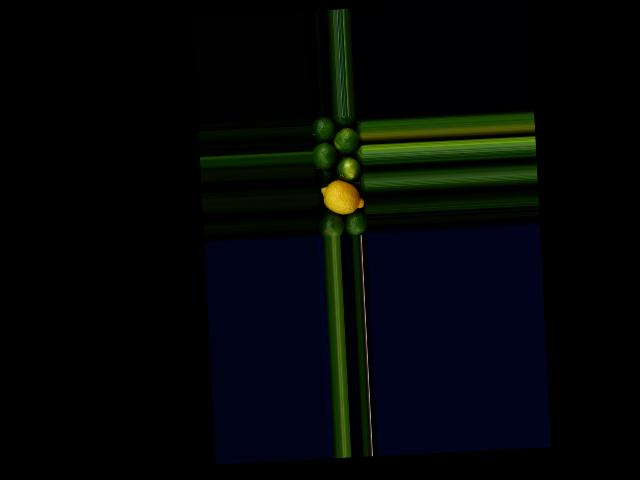lemon: (319, 178, 364, 216)
